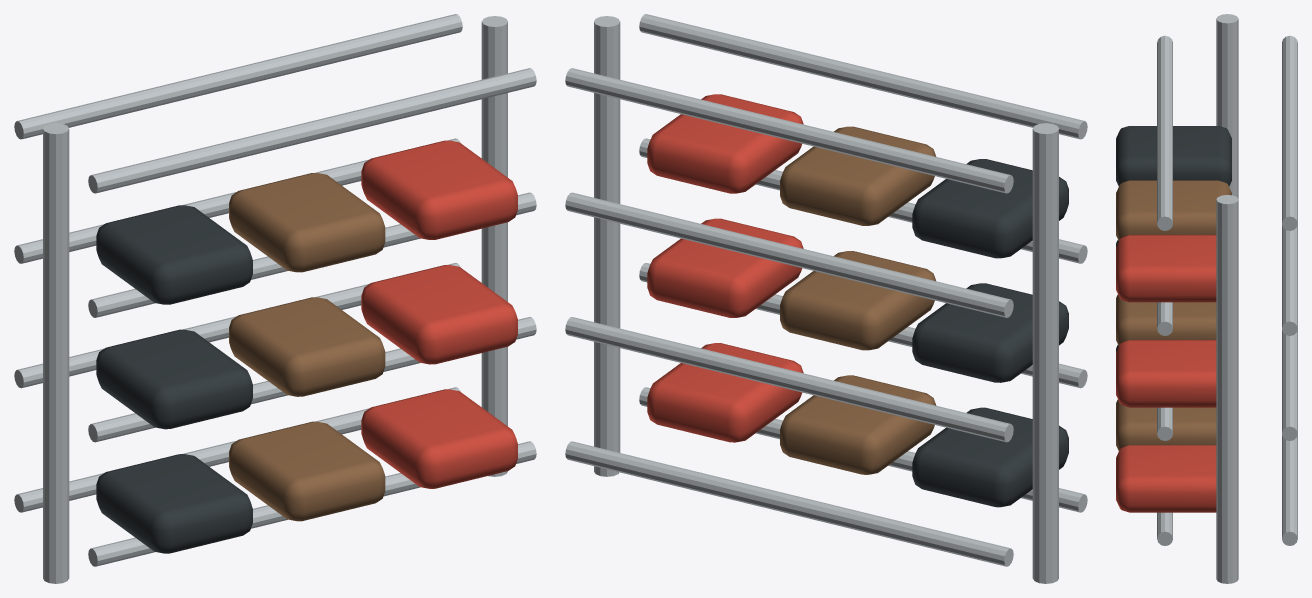
File: shoe_rack_silver.glb
3 views of the same model, side by side, from view 1: azimuth 30°, elevation 25°; view 2: azimuth 150°, elevation 25°; view 3: azimuth 270°, elevation 25° (orthographic). The views are drawn at different scales.
Parts seen in each view (by area): view 1: upright, stored shoe, stored shoe.001, stored shoe.003, stored shoe.002, stored shoe.004, stored shoe.005, stored shoe.007, stored shoe.008, stored shoe.006, shoe rail.006, shoe rail.007 (+7 smaller); view 2: upright, upright.001, stored shoe.005, stored shoe.001, stored shoe.002, stored shoe.007, stored shoe.008, stored shoe.004, shoe rail.001, shoe rail.005, shoe rail.007, shoe rail.003 (+7 smaller); view 3: upright.001, stored shoe.002, stored shoe.005, stored shoe.008, stored shoe.006, stored shoe.007, stored shoe.001, stored shoe.004, upright, shoe rail.006, shoe rail.007, shoe rail.005 (+5 smaller).
Boxes of the visible parts, x1=… form: upright: x1=43, y1=123, x2=69, y2=583; stored shoe: x1=96, y1=454, x2=252, y2=553; stored shoe.001: x1=229, y1=421, x2=385, y2=521; stored shoe.003: x1=96, y1=329, x2=252, y2=429; stored shoe.002: x1=361, y1=389, x2=517, y2=488; stored shoe.004: x1=229, y1=297, x2=385, y2=396; stored shoe.005: x1=361, y1=265, x2=517, y2=364; stored shoe.007: x1=229, y1=173, x2=385, y2=272; stored shoe.008: x1=361, y1=140, x2=517, y2=239; stored shoe.006: x1=96, y1=205, x2=252, y2=304; shoe rail.006: x1=88, y1=68, x2=536, y2=193; shoe rail.007: x1=14, y1=14, x2=462, y2=139; upright: x1=1032, y1=123, x2=1058, y2=583; upright.001: x1=594, y1=16, x2=620, y2=476; stored shoe.005: x1=647, y1=218, x2=803, y2=317; stored shoe.001: x1=780, y1=375, x2=936, y2=474; stored shoe.002: x1=647, y1=343, x2=803, y2=442; stored shoe.007: x1=780, y1=126, x2=936, y2=225; stored shoe.008: x1=647, y1=94, x2=803, y2=193; stored shoe.004: x1=780, y1=251, x2=935, y2=350; shoe rail.001: x1=565, y1=441, x2=1013, y2=566; shoe rail.005: x1=565, y1=192, x2=1013, y2=317; shoe rail.007: x1=565, y1=68, x2=1013, y2=193; shoe rail.003: x1=565, y1=317, x2=1013, y2=442; upright.001: x1=1216, y1=195, x2=1238, y2=583; stored shoe.002: x1=1116, y1=445, x2=1216, y2=512; stored shoe.005: x1=1116, y1=340, x2=1216, y2=407; stored shoe.008: x1=1116, y1=235, x2=1216, y2=302; stored shoe.006: x1=1116, y1=126, x2=1231, y2=186; stored shoe.007: x1=1116, y1=180, x2=1231, y2=240; stored shoe.001: x1=1116, y1=399, x2=1216, y2=450; stored shoe.004: x1=1116, y1=294, x2=1216, y2=345; upright: x1=1216, y1=14, x2=1238, y2=198; shoe rail.006: x1=1157, y1=35, x2=1172, y2=230; shoe rail.007: x1=1282, y1=35, x2=1297, y2=230; shoe rail.005: x1=1282, y1=224, x2=1297, y2=335.
Bounding box in the file's own units: 1.01 × 0.94 × 0.408.
